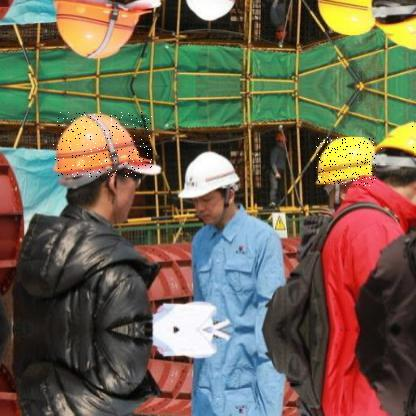safetyhelmet: (53, 112, 153, 178), (178, 150, 242, 200), (316, 138, 377, 188), (377, 120, 415, 166)
